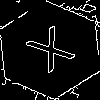X: (25, 25, 84, 82)
